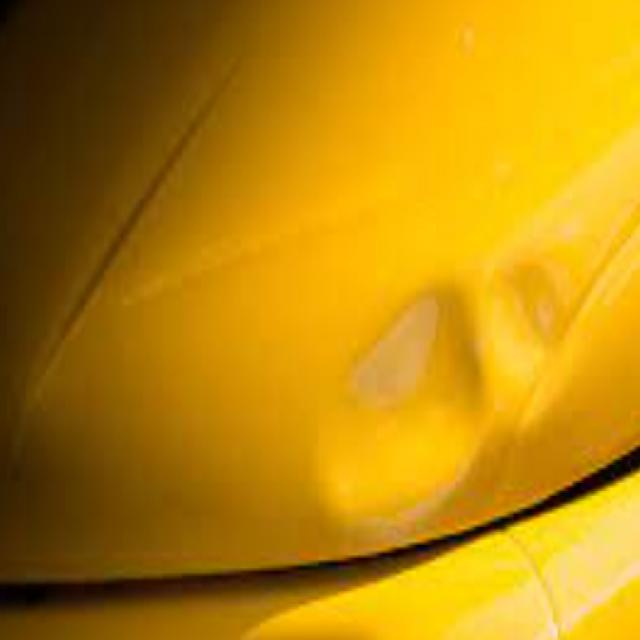dents: (278, 254, 480, 516), (500, 223, 586, 430)
